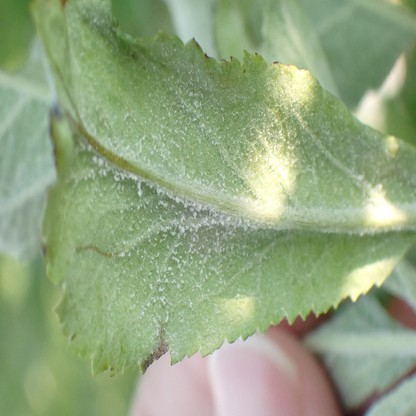powder: (35, 3, 415, 377), (0, 37, 56, 265)
